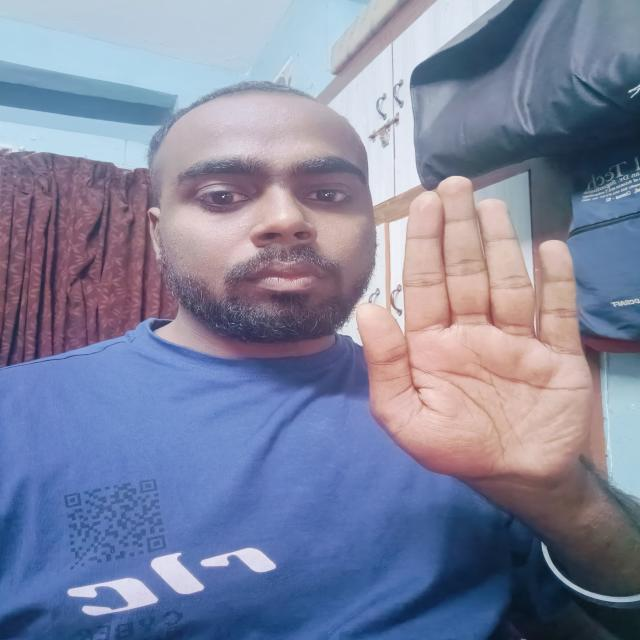Your: (337, 171, 640, 498)
